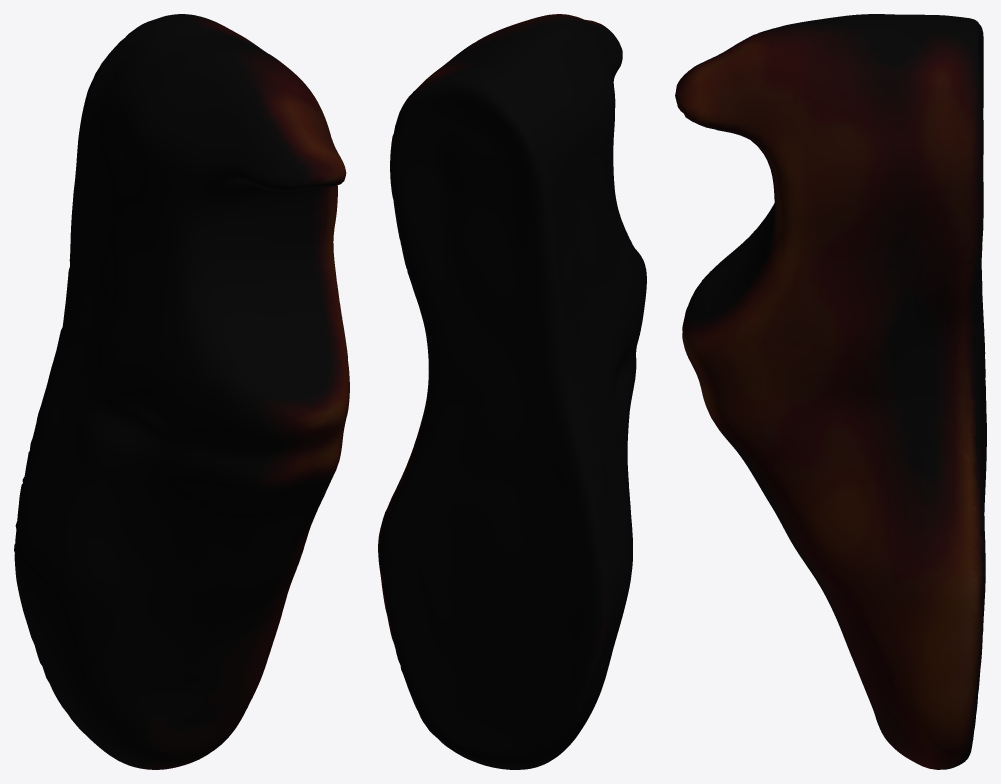
Rendered from shoe3.glb.
The picture shows the model from 3 angles, left to right: view 1: azimuth 30°, elevation 25°; view 2: azimuth 150°, elevation 25°; view 3: azimuth 270°, elevation 25°; orthographic projection. The views are drawn at different scales.
Size of the model in its own units: 0.3497 by 0.9997 by 0.3791.
